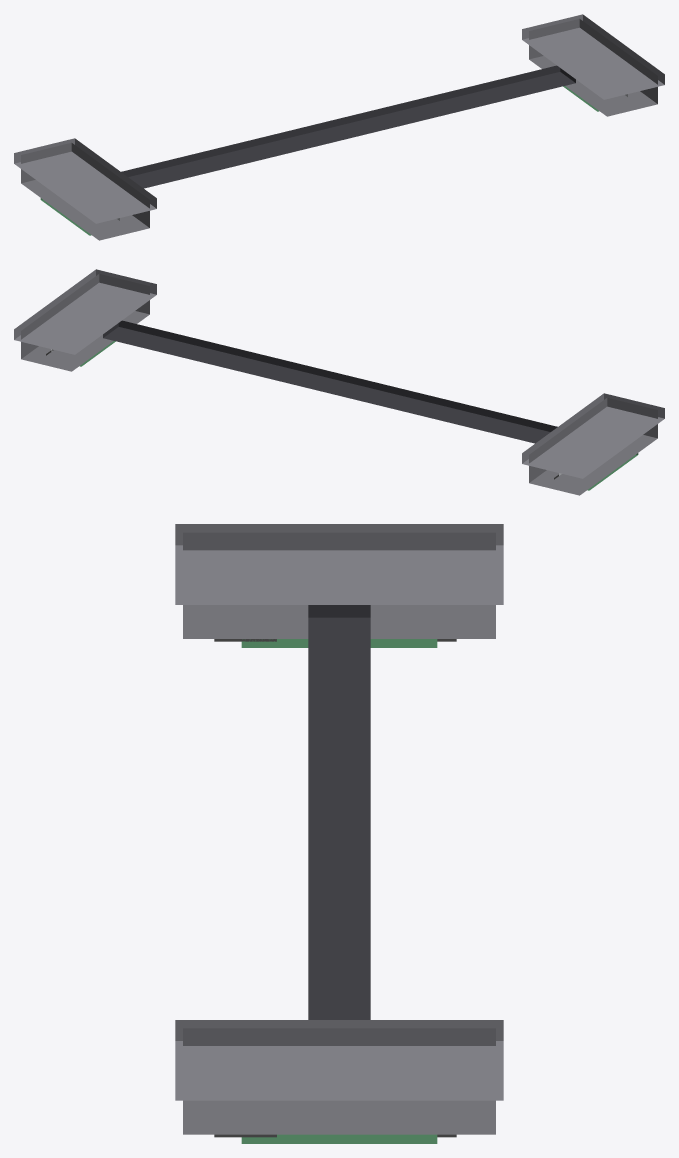
File: shoulder_buttons.gltf
The picture shows the model from 3 angles, top to bottom: view 1: azimuth 30°, elevation 25°; view 2: azimuth 150°, elevation 25°; view 3: azimuth 270°, elevation 25°; orthographic projection. The views are drawn at different scales.
Parts seen in each view (by area): view 1: shoulder_buttons; view 2: shoulder_buttons; view 3: shoulder_buttons.
Boxes of the visible parts, box(x1,y1,x2,y2) form: shoulder_buttons: box(14, 14, 664, 240); shoulder_buttons: box(14, 269, 664, 495); shoulder_buttons: box(175, 524, 503, 1143).
Size of the model in its own units: 0.168 by 0.011 by 0.042.
